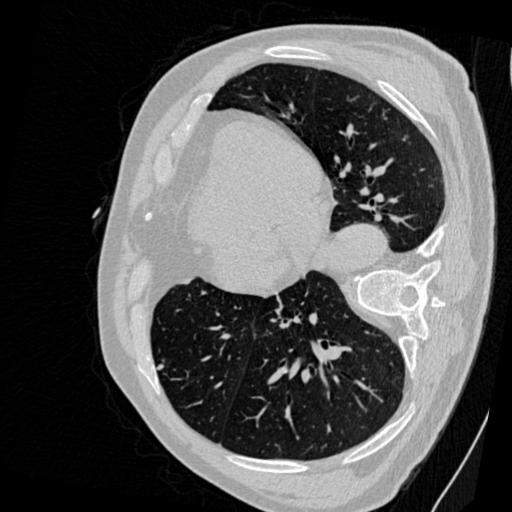nodule: (153, 362, 166, 375)
